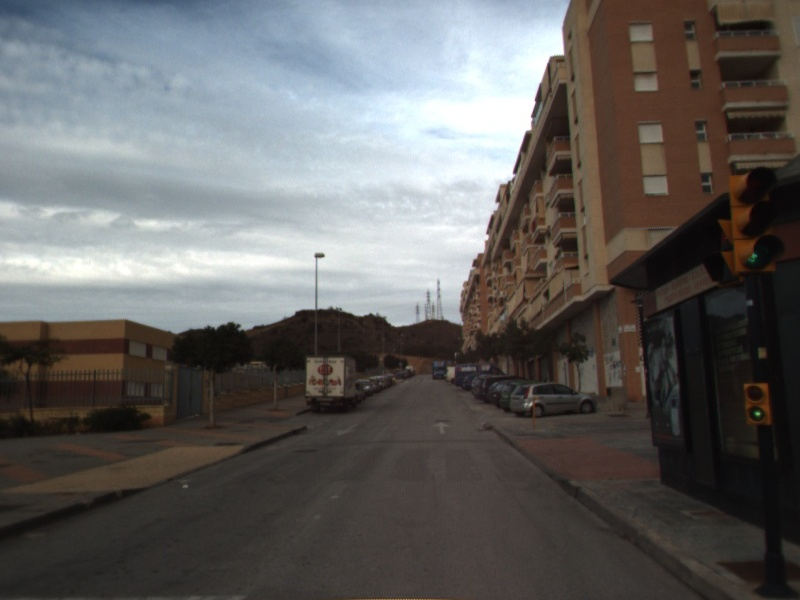STRAIGHT: (431, 419, 453, 435)
